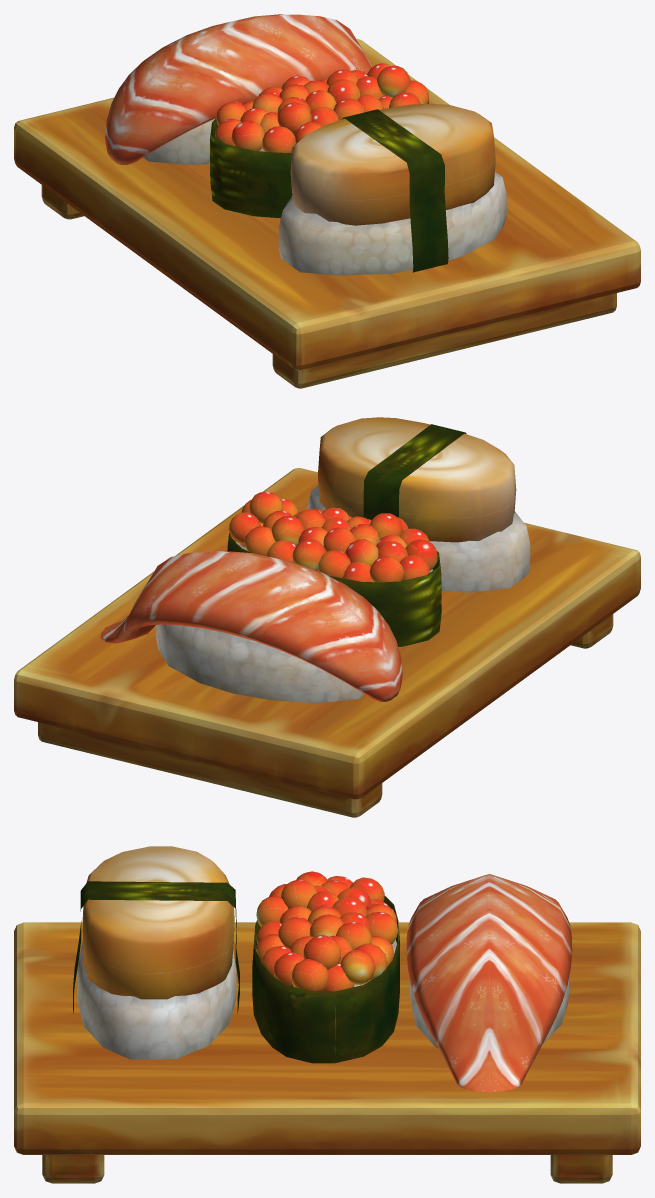
The model's file is StaticMesh_SushiBar.fbx.
3 views of the same model, one above another, from view 1: azimuth 30°, elevation 25°; view 2: azimuth 150°, elevation 25°; view 3: azimuth 270°, elevation 25° (orthographic). The views are drawn at different scales.
Parts seen in each view (by area): view 1: Plane; view 2: Plane; view 3: Plane.
Boxes of the visible parts, <box> form: Plane: <box>14,14,640,388</box>; Plane: <box>14,417,640,817</box>; Plane: <box>14,846,640,1183</box>.
Bounding box in the file's own units: 851 × 599 × 304.
